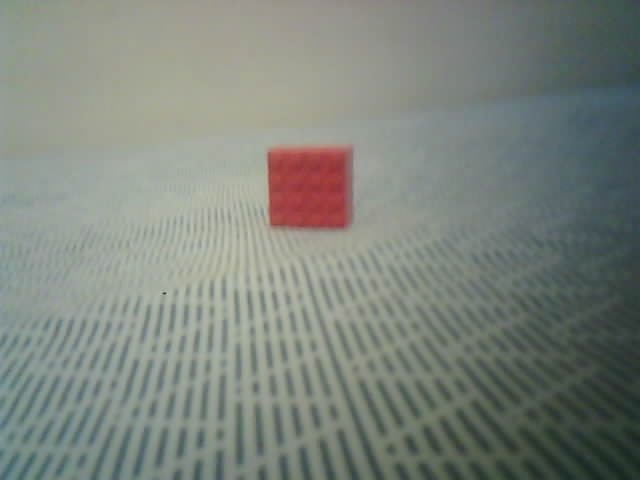lego: (264, 143, 355, 230)
